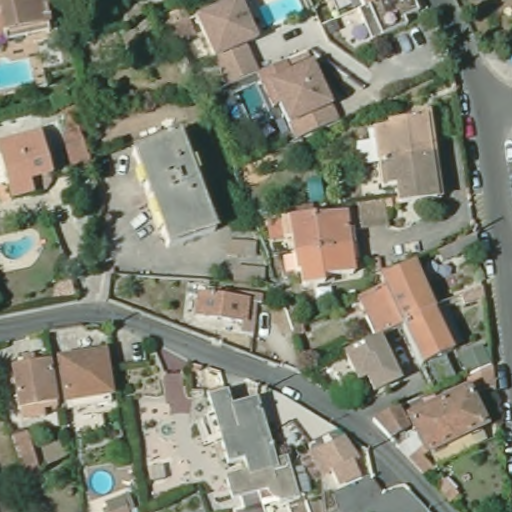pool: (231, 82, 272, 122), (255, 1, 307, 28), (1, 54, 35, 95), (1, 236, 35, 264), (89, 468, 116, 495)
